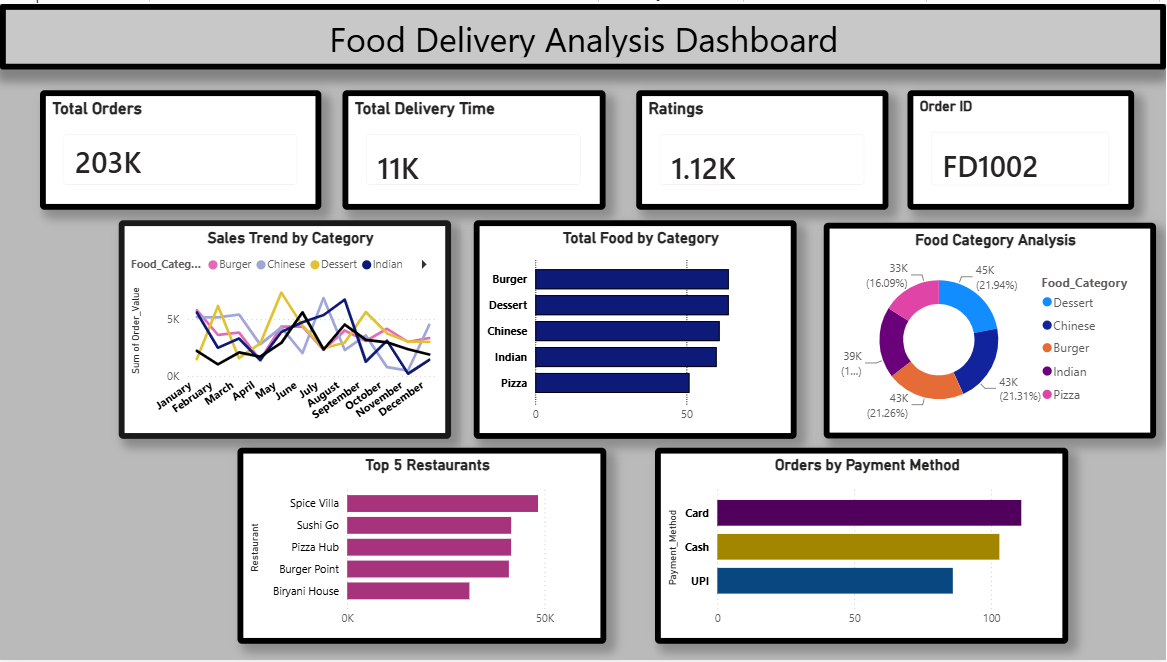

The dashboard page shown, as its layout file describes it:
{"tool":"powerbi","page":{"name":"Page 1","canvas":[1280,720],"ordinal":0},"visuals":[{"type":"textbox","box":[0,0,1280,72.2],"z":0},{"type":"lineChart","title":"Sales Trend by Category","fields":{"Category":["Food Delivery Data.Order_Date.Variation.Date Hierarchy.Month"],"Y":["Sum(Food Delivery Data.Order_Value)"],"Series":["Food Delivery Data.Food_Category"]},"box":[131,236.9,364.5,240.2],"z":1000},{"type":"clusteredBarChart","title":"Total Food by Category","fields":{"Y":["CountNonNull(Food Delivery Data.Order_ID)"],"Category":["Food Delivery Data.Food_Category"]},"box":[520.7,236.9,354.4,240.2],"z":2000},{"type":"donutChart","title":"Food Category Analysis","fields":{"Category":["Food Delivery Data.Food_Category"],"Y":["Sum(Food Delivery Data.Order_Value)"]},"box":[903.7,240.2,364.5,236.9],"z":3000},{"type":"clusteredBarChart","title":"Top 5 Restaurants","fields":{"Category":["Food Delivery Data.Restaurant"],"Y":["Sum(Food Delivery Data.Order_Value)"]},"box":[260.4,487.1,404.8,215],"z":4000},{"type":"clusteredBarChart","title":"Orders by Payment Method","fields":{"Category":["Food Delivery Data.Payment_Method"],"Y":["CountNonNull(Food Delivery Data.Order_ID)"]},"box":[719,487.1,453.5,215],"z":5000},{"type":"cardVisual","fields":{"Data":["Food Delivery Data.Total Orders"]},"box":[45.3,86.4,267.6,138.6],"z":6000},{"type":"cardVisual","fields":{"Data":["Food Delivery Data.Average Delivery Time"]},"box":[366.4,86.4,282.7,138.6],"z":7000},{"type":"cardVisual","fields":{"Data":["Food Delivery Data.Average Rating"]},"box":[682,86.4,275.8,138.6],"z":8000},{"type":"cardVisual","fields":{"Data":["Food Delivery Data.Total Revenue"]},"box":[1003.1,86.4,266.2,138.6],"z":9000}]}

Visuals, with their boxes in screenshot pixels (x1, y1, x2, y2), scaled from the page's 1280x720 canvas onto the 1167x662 screenshot:
textbox: bbox=(0, 0, 1166, 66)
"Sales Trend by Category" lineChart: bbox=(119, 218, 452, 439)
"Total Food by Category" clusteredBarChart: bbox=(475, 218, 798, 439)
"Food Category Analysis" donutChart: bbox=(824, 221, 1156, 439)
"Top 5 Restaurants" clusteredBarChart: bbox=(237, 448, 606, 646)
"Orders by Payment Method" clusteredBarChart: bbox=(656, 448, 1069, 646)
cardVisual - Food Delivery Data.Total Orders: bbox=(41, 79, 285, 207)
cardVisual - Food Delivery Data.Average Delivery Time: bbox=(334, 79, 592, 207)
cardVisual - Food Delivery Data.Average Rating: bbox=(622, 79, 873, 207)
cardVisual - Food Delivery Data.Total Revenue: bbox=(915, 79, 1157, 207)
